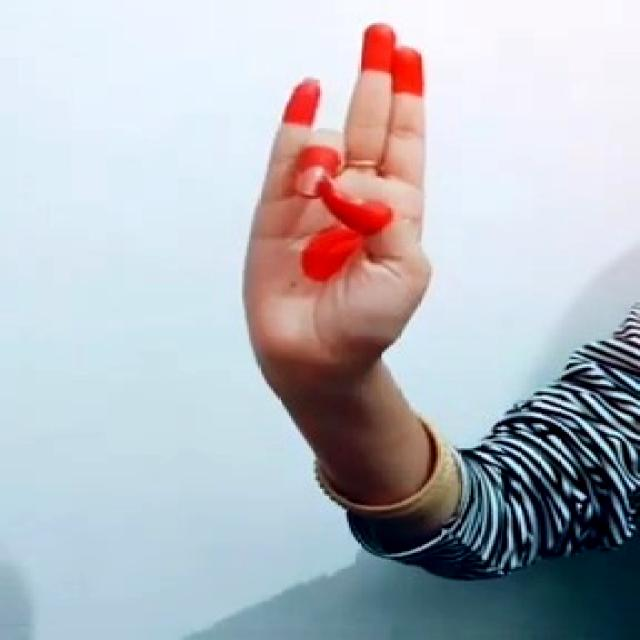Mayura: (208, 18, 470, 373)
bangle: (304, 416, 476, 530)
